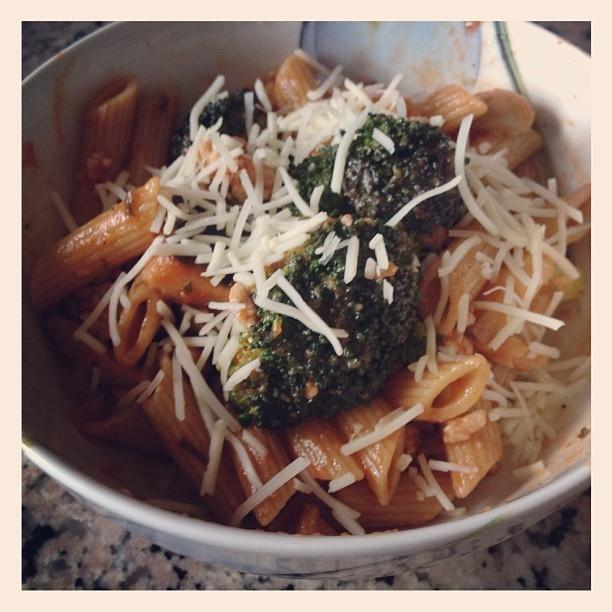broccoli: (230, 218, 422, 428), (288, 112, 469, 235), (198, 88, 252, 142)
